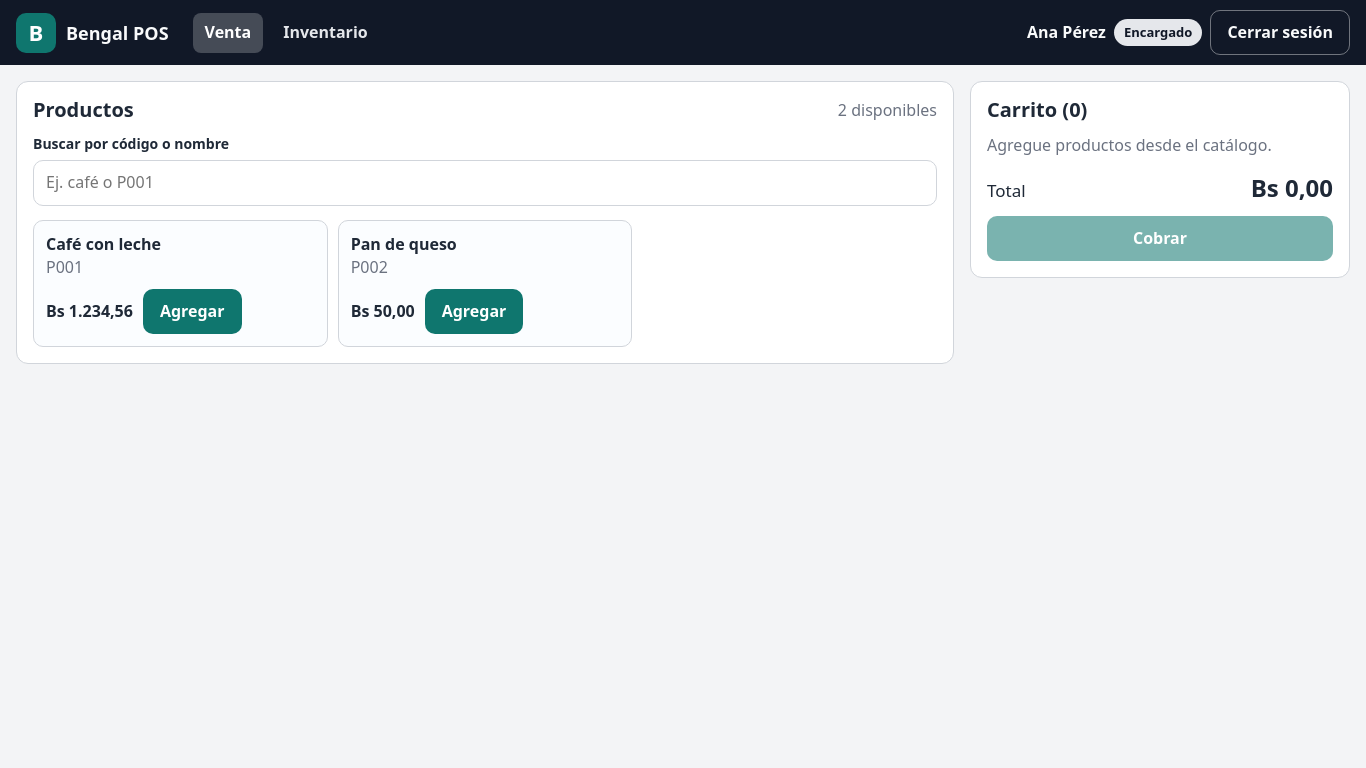
Test: pantalla de venta › rechaza en cliente un efectivo recibido menor que la parte
Click the button with aria-label "Agregar Café con leche". click: (192, 312)
box: [143,289,242,334]
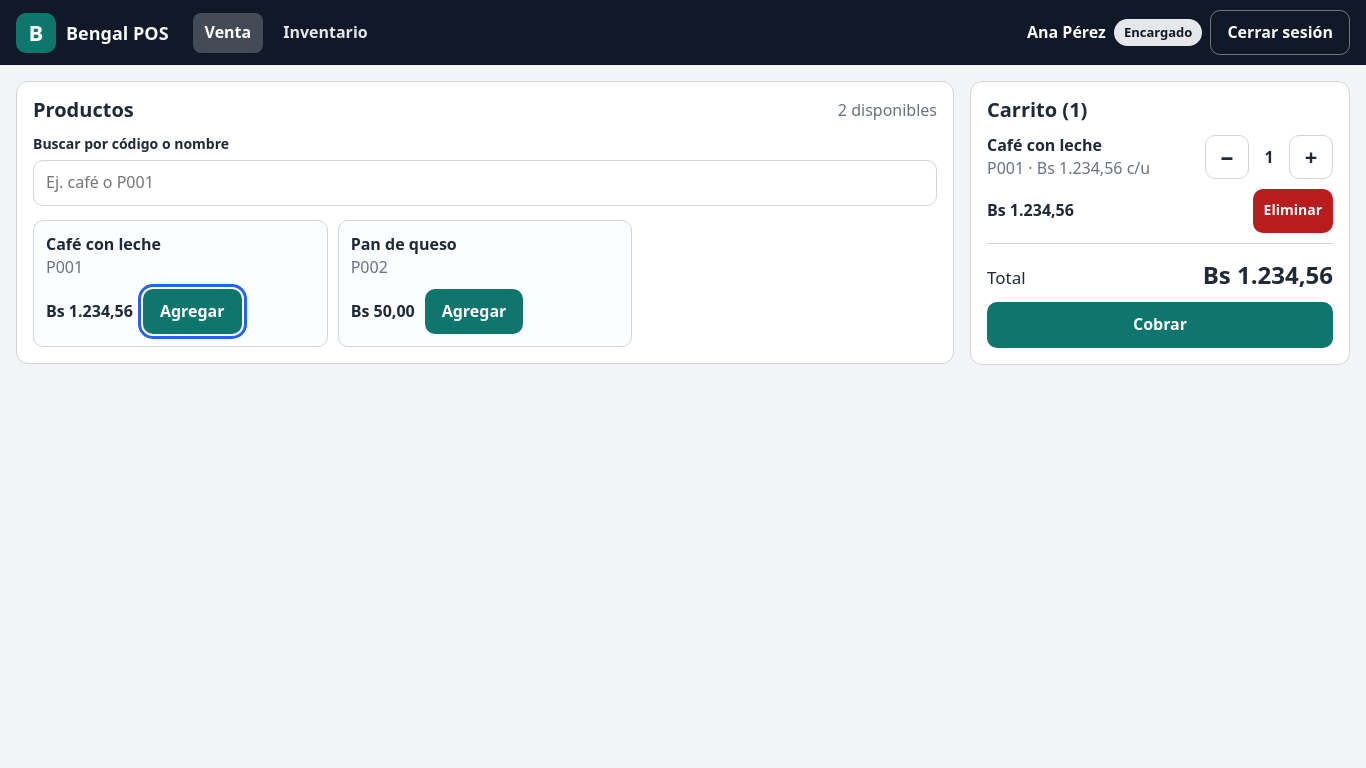
Click the button "Cobrar". click: (1160, 325)
box: [987,302,1333,348]
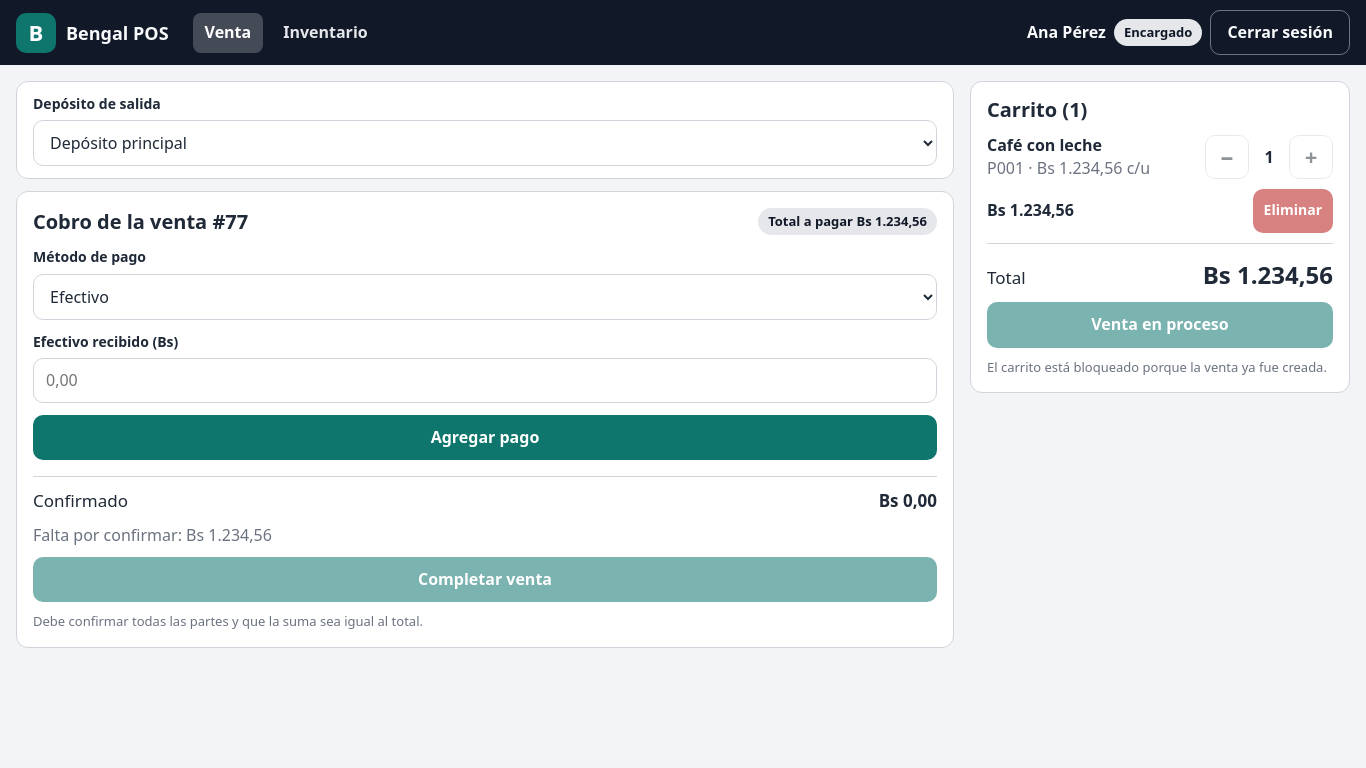
Now the heading "Cobro de la venta #77" is shown, box [33,210,248,234]
Type "100" into the field labelled "Efectivo recibido (Bs)". click: (485, 380)
box: [33,358,937,403]
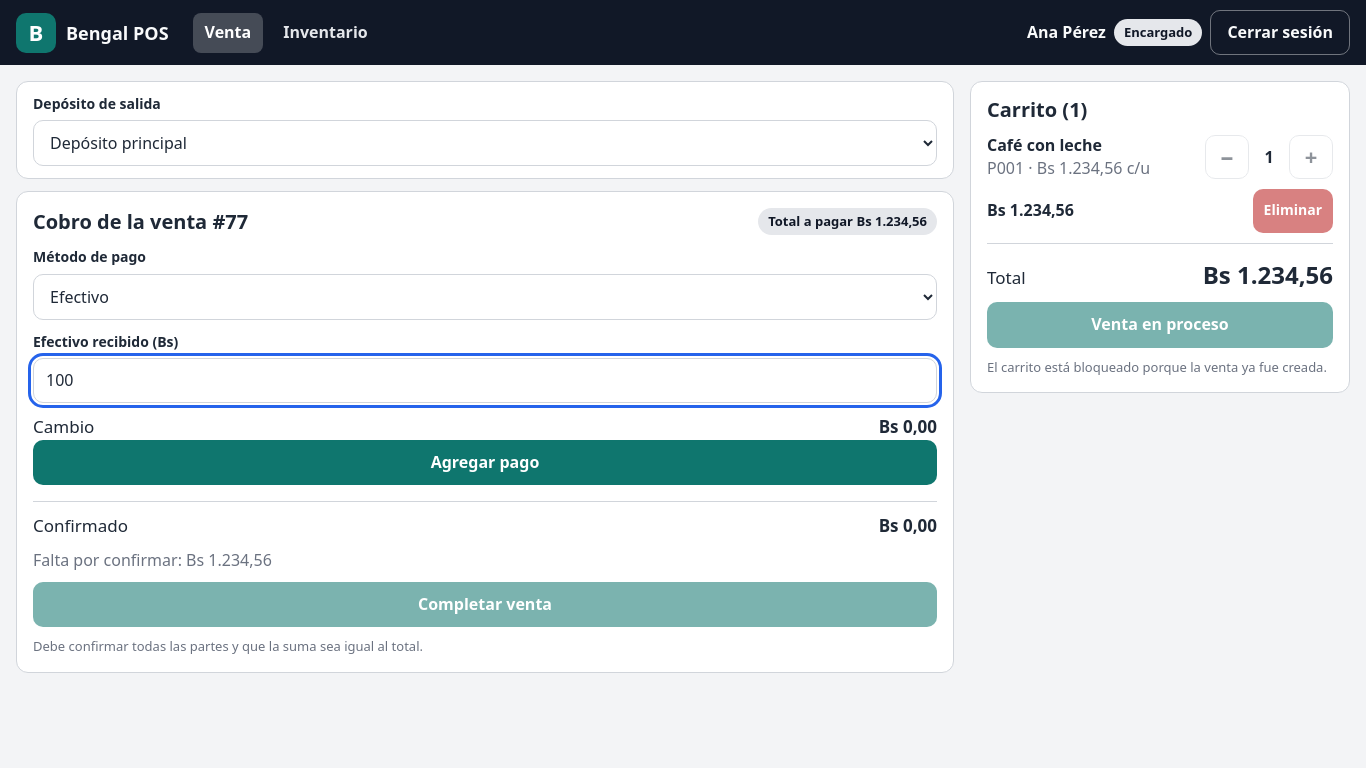
Click the button "Agregar pago". click: (485, 462)
box: [33,440,937,485]
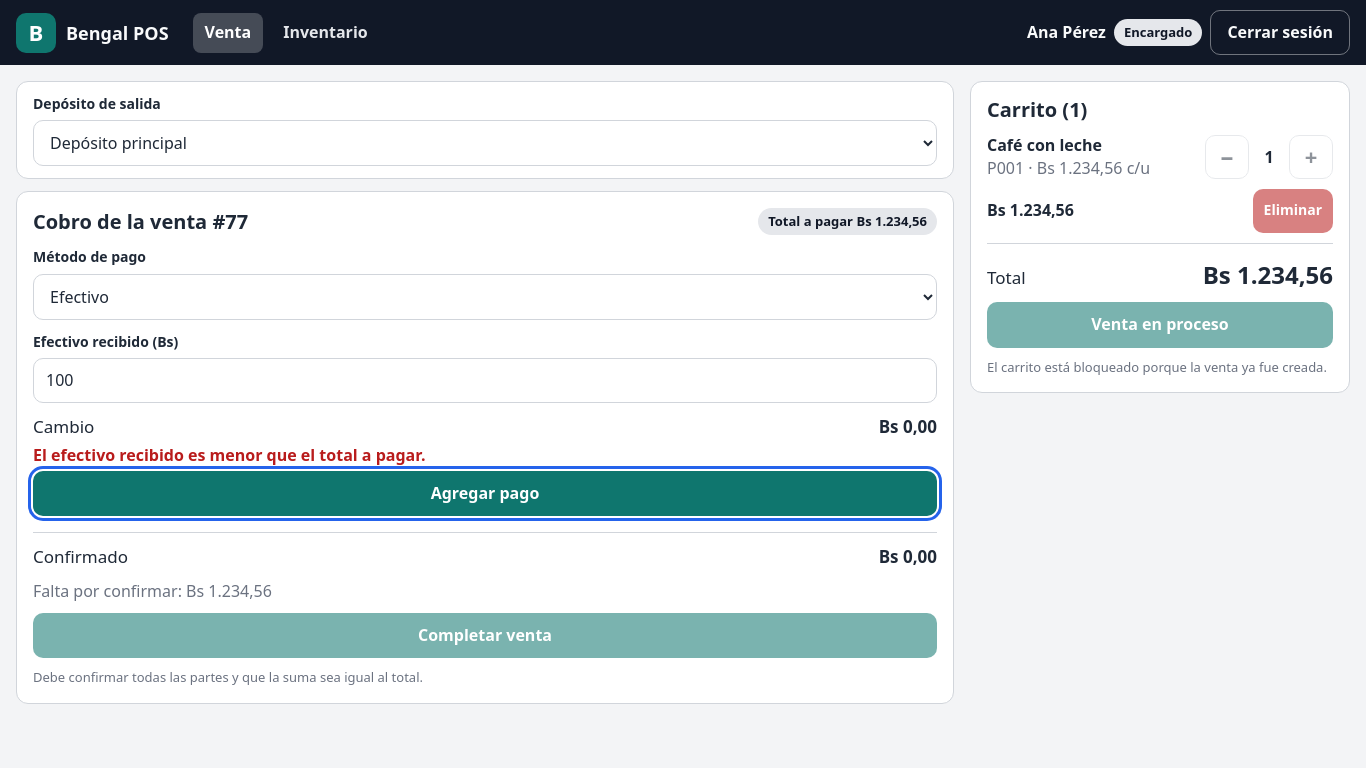
Now the text "El efectivo recibido es menor que el total a pagar." is shown, box [33,444,426,466]
